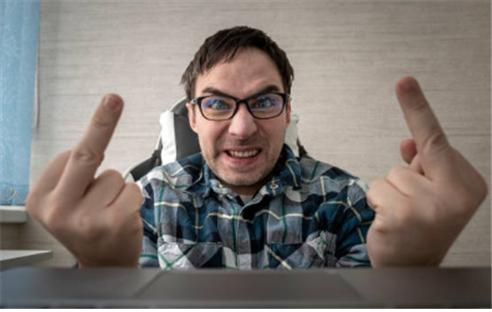insulting_gesture: (364, 75, 488, 269), (25, 89, 144, 270)
